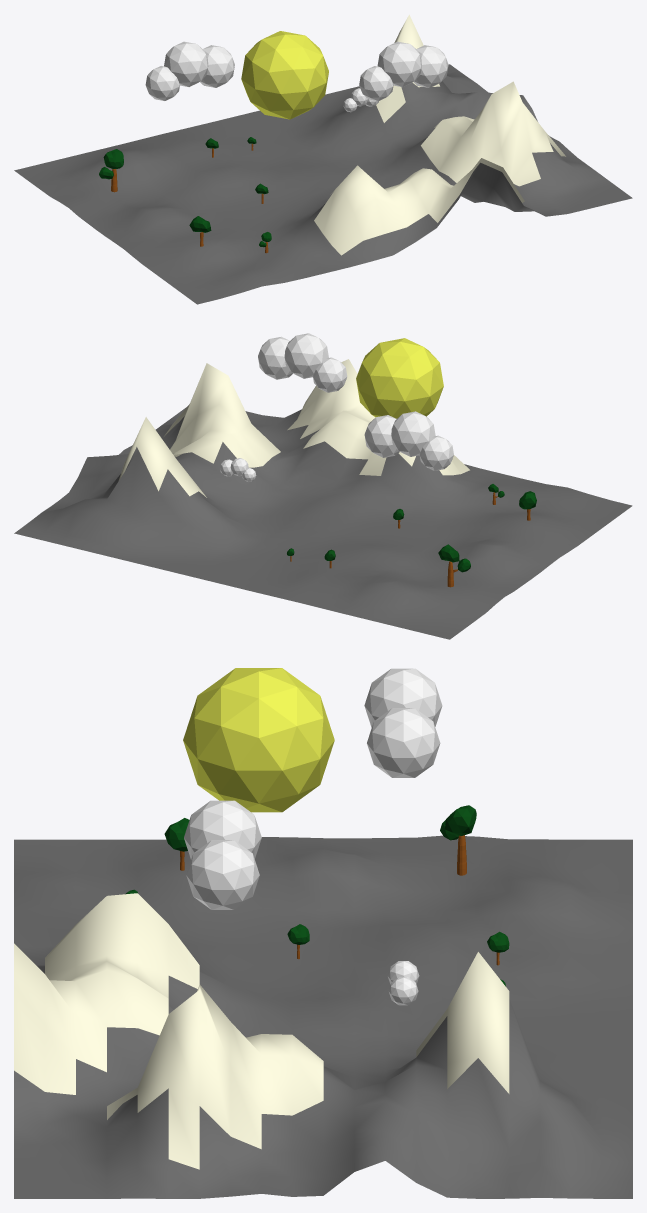
The model's file is moon_Detach_RE.FBX.
The picture shows the model from 3 angles, top to bottom: view 1: azimuth 30°, elevation 25°; view 2: azimuth 150°, elevation 25°; view 3: azimuth 270°, elevation 25°; orthographic projection. The views are drawn at different scales.
Visible parts, largest first — view 1: Object001, Object002, Plane002, Object003, Object007, Object005; view 2: Object001, Object002, Plane002, Object003, Object007, Object005; view 3: Object001, Object002, Object003, Plane002, Object007, Object005.
Part boxes in pixels (bbox=[...]): Object001: bbox=[14, 64, 632, 304]; Object002: bbox=[314, 14, 565, 255]; Plane002: bbox=[145, 41, 448, 112]; Object003: bbox=[241, 31, 328, 119]; Object007: bbox=[99, 149, 123, 192]; Object005: bbox=[205, 137, 271, 253]; Object001: bbox=[14, 407, 632, 639]; Object002: bbox=[118, 359, 469, 497]; Plane002: bbox=[220, 333, 453, 481]; Object003: bbox=[356, 338, 443, 418]; Object007: bbox=[438, 544, 470, 587]; Object005: bbox=[287, 484, 504, 568]; Object001: bbox=[14, 835, 632, 1198]; Object002: bbox=[14, 893, 509, 1169]; Object003: bbox=[183, 668, 334, 812]; Plane002: bbox=[184, 668, 442, 1005]; Object007: bbox=[440, 805, 476, 875]; Object005: bbox=[125, 889, 509, 986].
Size of the model in its own units: 161 by 62.85 by 117.
